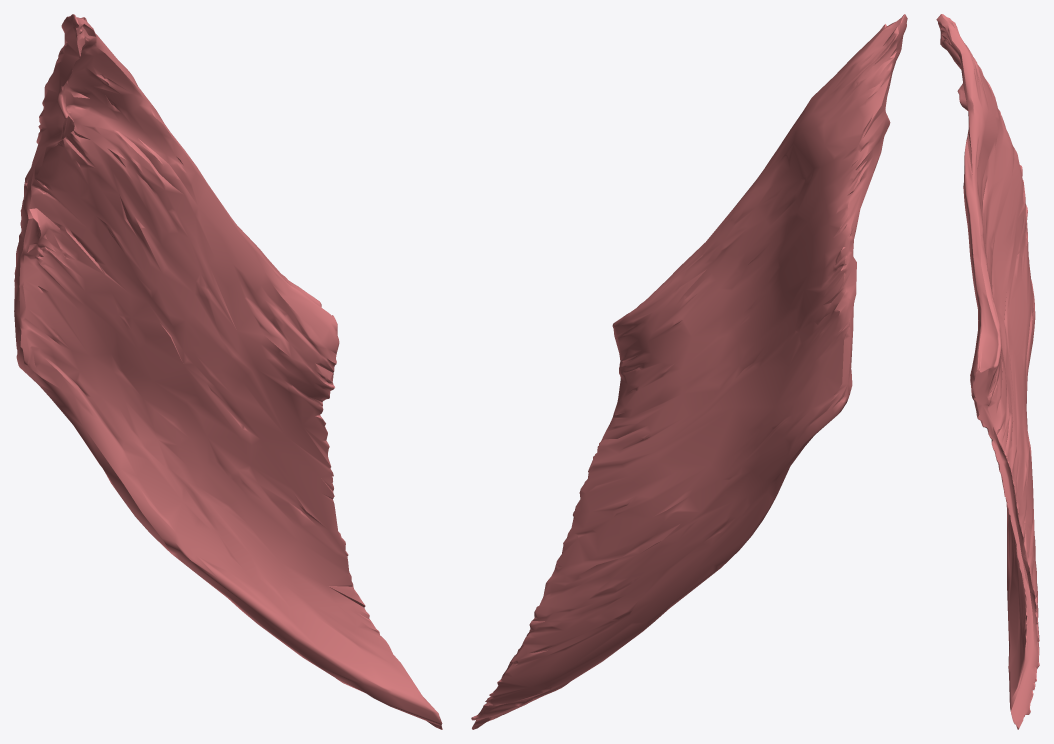
The picture shows the model from 3 angles, left to right: view 1: azimuth 30°, elevation 25°; view 2: azimuth 150°, elevation 25°; view 3: azimuth 270°, elevation 25°; orthographic projection. The views are drawn at different scales.
Visible parts, largest first — view 1: FJ1536M; view 2: FJ1536M; view 3: FJ1536M.
Part boxes in pixels (x1,y1,x2,y2): FJ1536M: [14, 14, 442, 729]; FJ1536M: [471, 14, 907, 729]; FJ1536M: [936, 14, 1039, 729].
Size of the model in its own units: 0.0898 by 0.1725 by 0.028.
